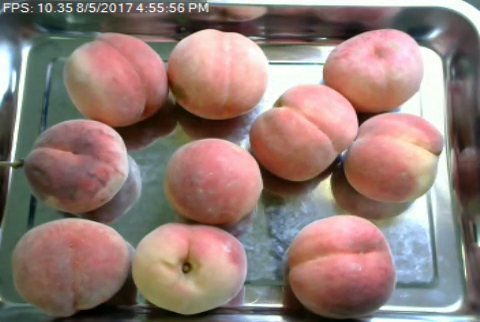Peach: (11, 217, 128, 316), (285, 214, 395, 319), (248, 83, 358, 181), (134, 222, 247, 316), (24, 118, 130, 213), (65, 32, 168, 128), (168, 26, 269, 120), (321, 25, 425, 114), (342, 111, 443, 202), (163, 138, 263, 224)
